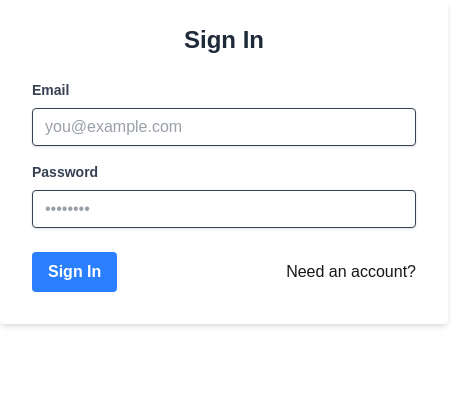
Test: LoginForm › Error Handling › displays error message when sign in fails
Type "test@example.com" into the field labelled "Email". click: (224, 127)
box: [32, 108, 416, 146]
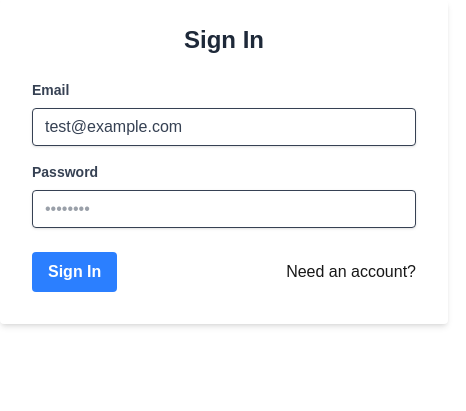
Type "wrongpassword" into the password field labelled "Password". click: (224, 209)
box: [32, 190, 416, 228]
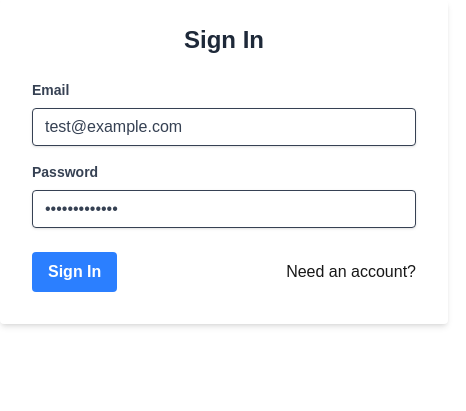
Click the button "Sign In". click: (75, 272)
box: [32, 252, 117, 292]
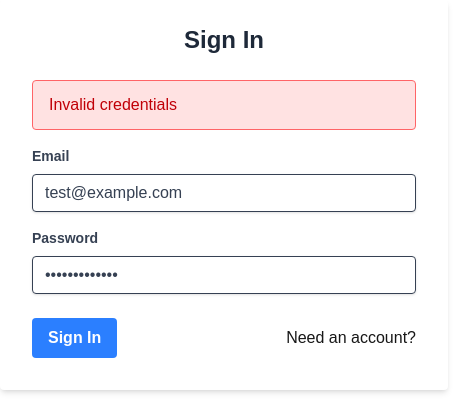
Expected: the text "Invalid credentials" is shown, [32, 80, 416, 130]
